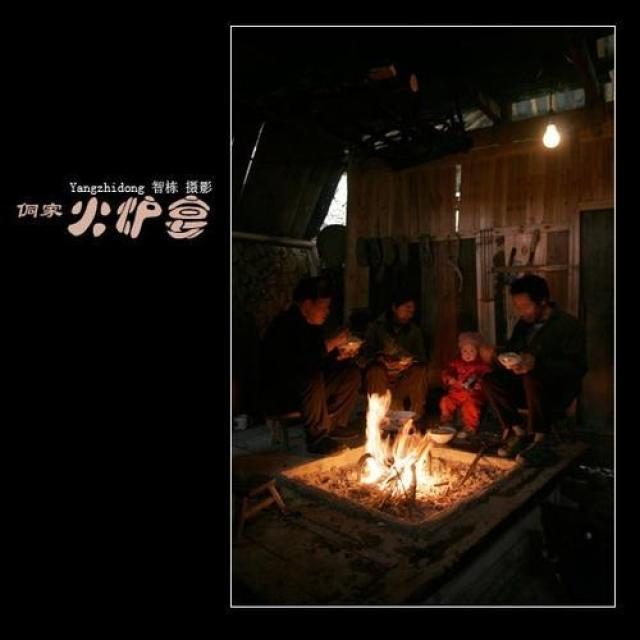Fire: (358, 386, 452, 502)
